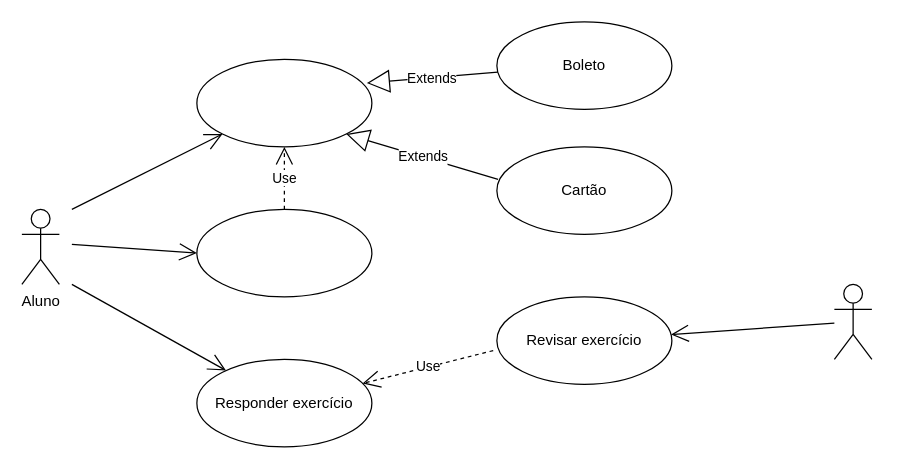
Image size: 906x469. Some labels were removed from this diagram. Each missing label, with the centre of its shape:
Assistir vídeo: pixel 284 252
Comprar curso: pixel 284 102
Professor: pixel 852 321
